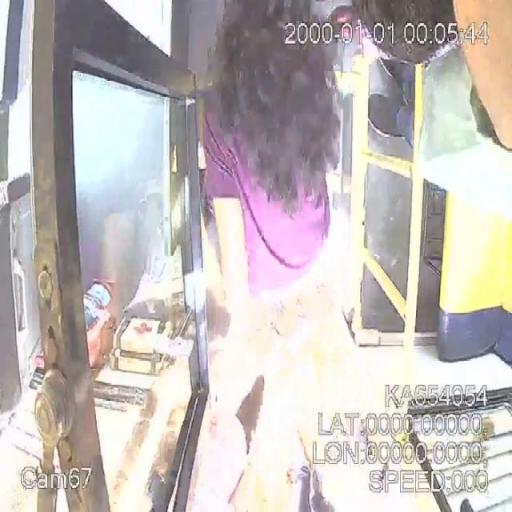persona: (190, 2, 348, 296)
